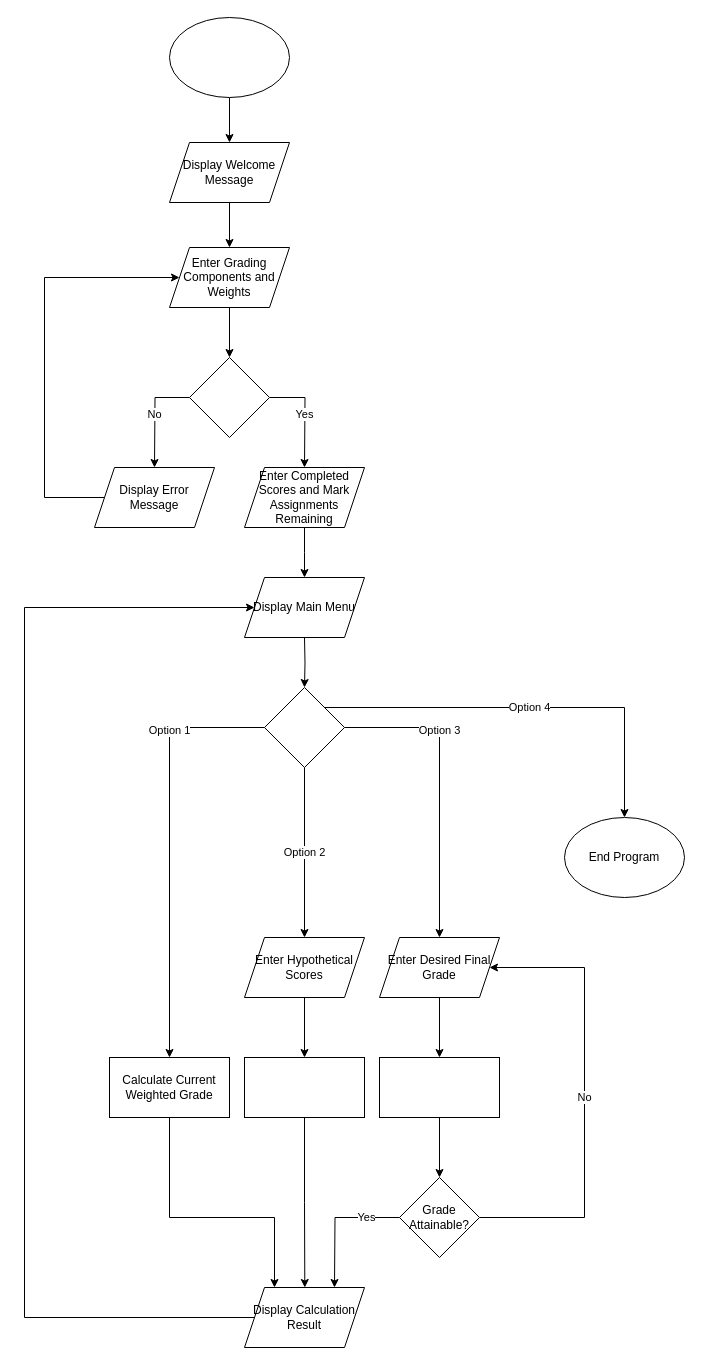
The diagram is 702 pixels wide and 1365 high, and some of its shapes have lost their labels. Here are the shapes that lost their labels. From the top down, the centre of each, then its label:
At [229,57]: "Start GradePath".
At [229,397]: "Do Weights = 100%?".
At [304,727]: "Which Option?".
At [304,1087]: "Calculate Projected Final Grade".
At [439,1087]: "Calculate Required Average on Remaining Assignments".
